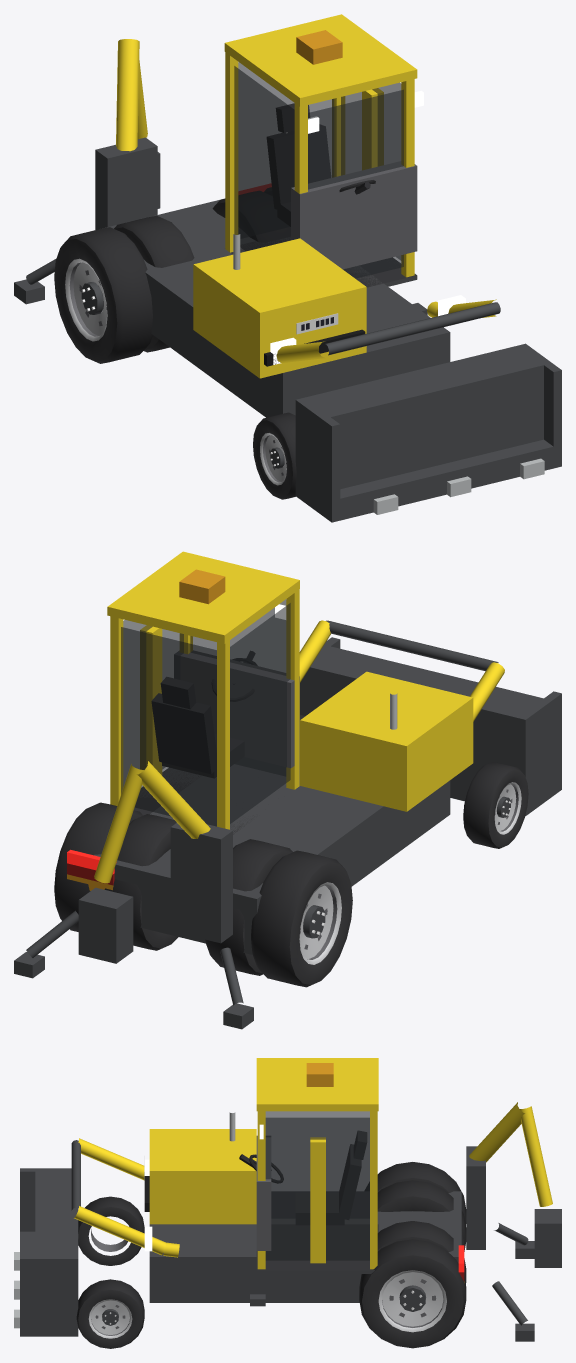
The model's file is backhoe_yellow.glb.
The picture shows the model from 3 angles, top to bottom: view 1: azimuth 30°, elevation 25°; view 2: azimuth 150°, elevation 25°; view 3: azimuth 270°, elevation 25°; orthographic projection. The views are drawn at different scales.
Visible parts, largest first — view 1: backhoe_yellow_body, Arm_Bucket, Wheel_RR, Arm_Boom, Wheel_FR, Wheel_RL; view 2: backhoe_yellow_body, Wheel_RR, Arm_Bucket, Wheel_RL, Wheel_FR, Arm_Boom; view 3: backhoe_yellow_body, Wheel_RL, Arm_Bucket, Wheel_RR, Wheel_FL, Arm_Boom, Wheel_FR.
Part boxes in pixels (box(x1,y1,x2,y2)): backhoe_yellow_body: box(14, 14, 465, 417); Arm_Bucket: box(295, 343, 561, 522); Wheel_RR: box(54, 215, 194, 363); Arm_Boom: box(276, 299, 500, 362); Wheel_FR: box(253, 412, 296, 499); Wheel_RL: box(212, 187, 290, 242); backhoe_yellow_body: box(14, 551, 473, 1029); Wheel_RR: box(205, 839, 352, 987); Arm_Bucket: box(300, 637, 561, 816); Wheel_RL: box(54, 802, 178, 950); Wheel_FR: box(463, 762, 528, 848); Arm_Boom: box(299, 620, 504, 721); backhoe_yellow_body: box(144, 1058, 561, 1341); Wheel_RL: box(359, 1221, 466, 1348); Arm_Bucket: box(14, 1168, 78, 1336); Wheel_RR: box(365, 1162, 466, 1251); Wheel_FL: box(76, 1279, 144, 1348); Arm_Boom: box(71, 1138, 179, 1257); Wheel_FR: box(78, 1196, 144, 1265).
Size of the model in its own units: 0.117 by 0.146 by 0.281.
8 materials, 1 textured.
